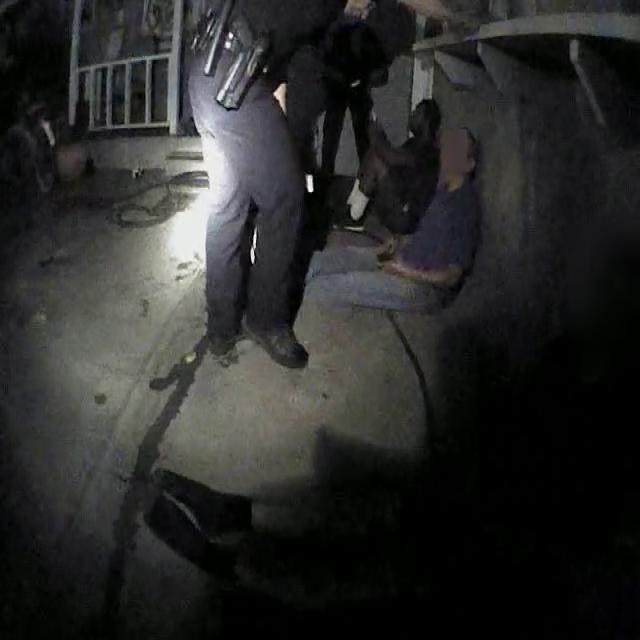gun: (210, 7, 279, 120)
